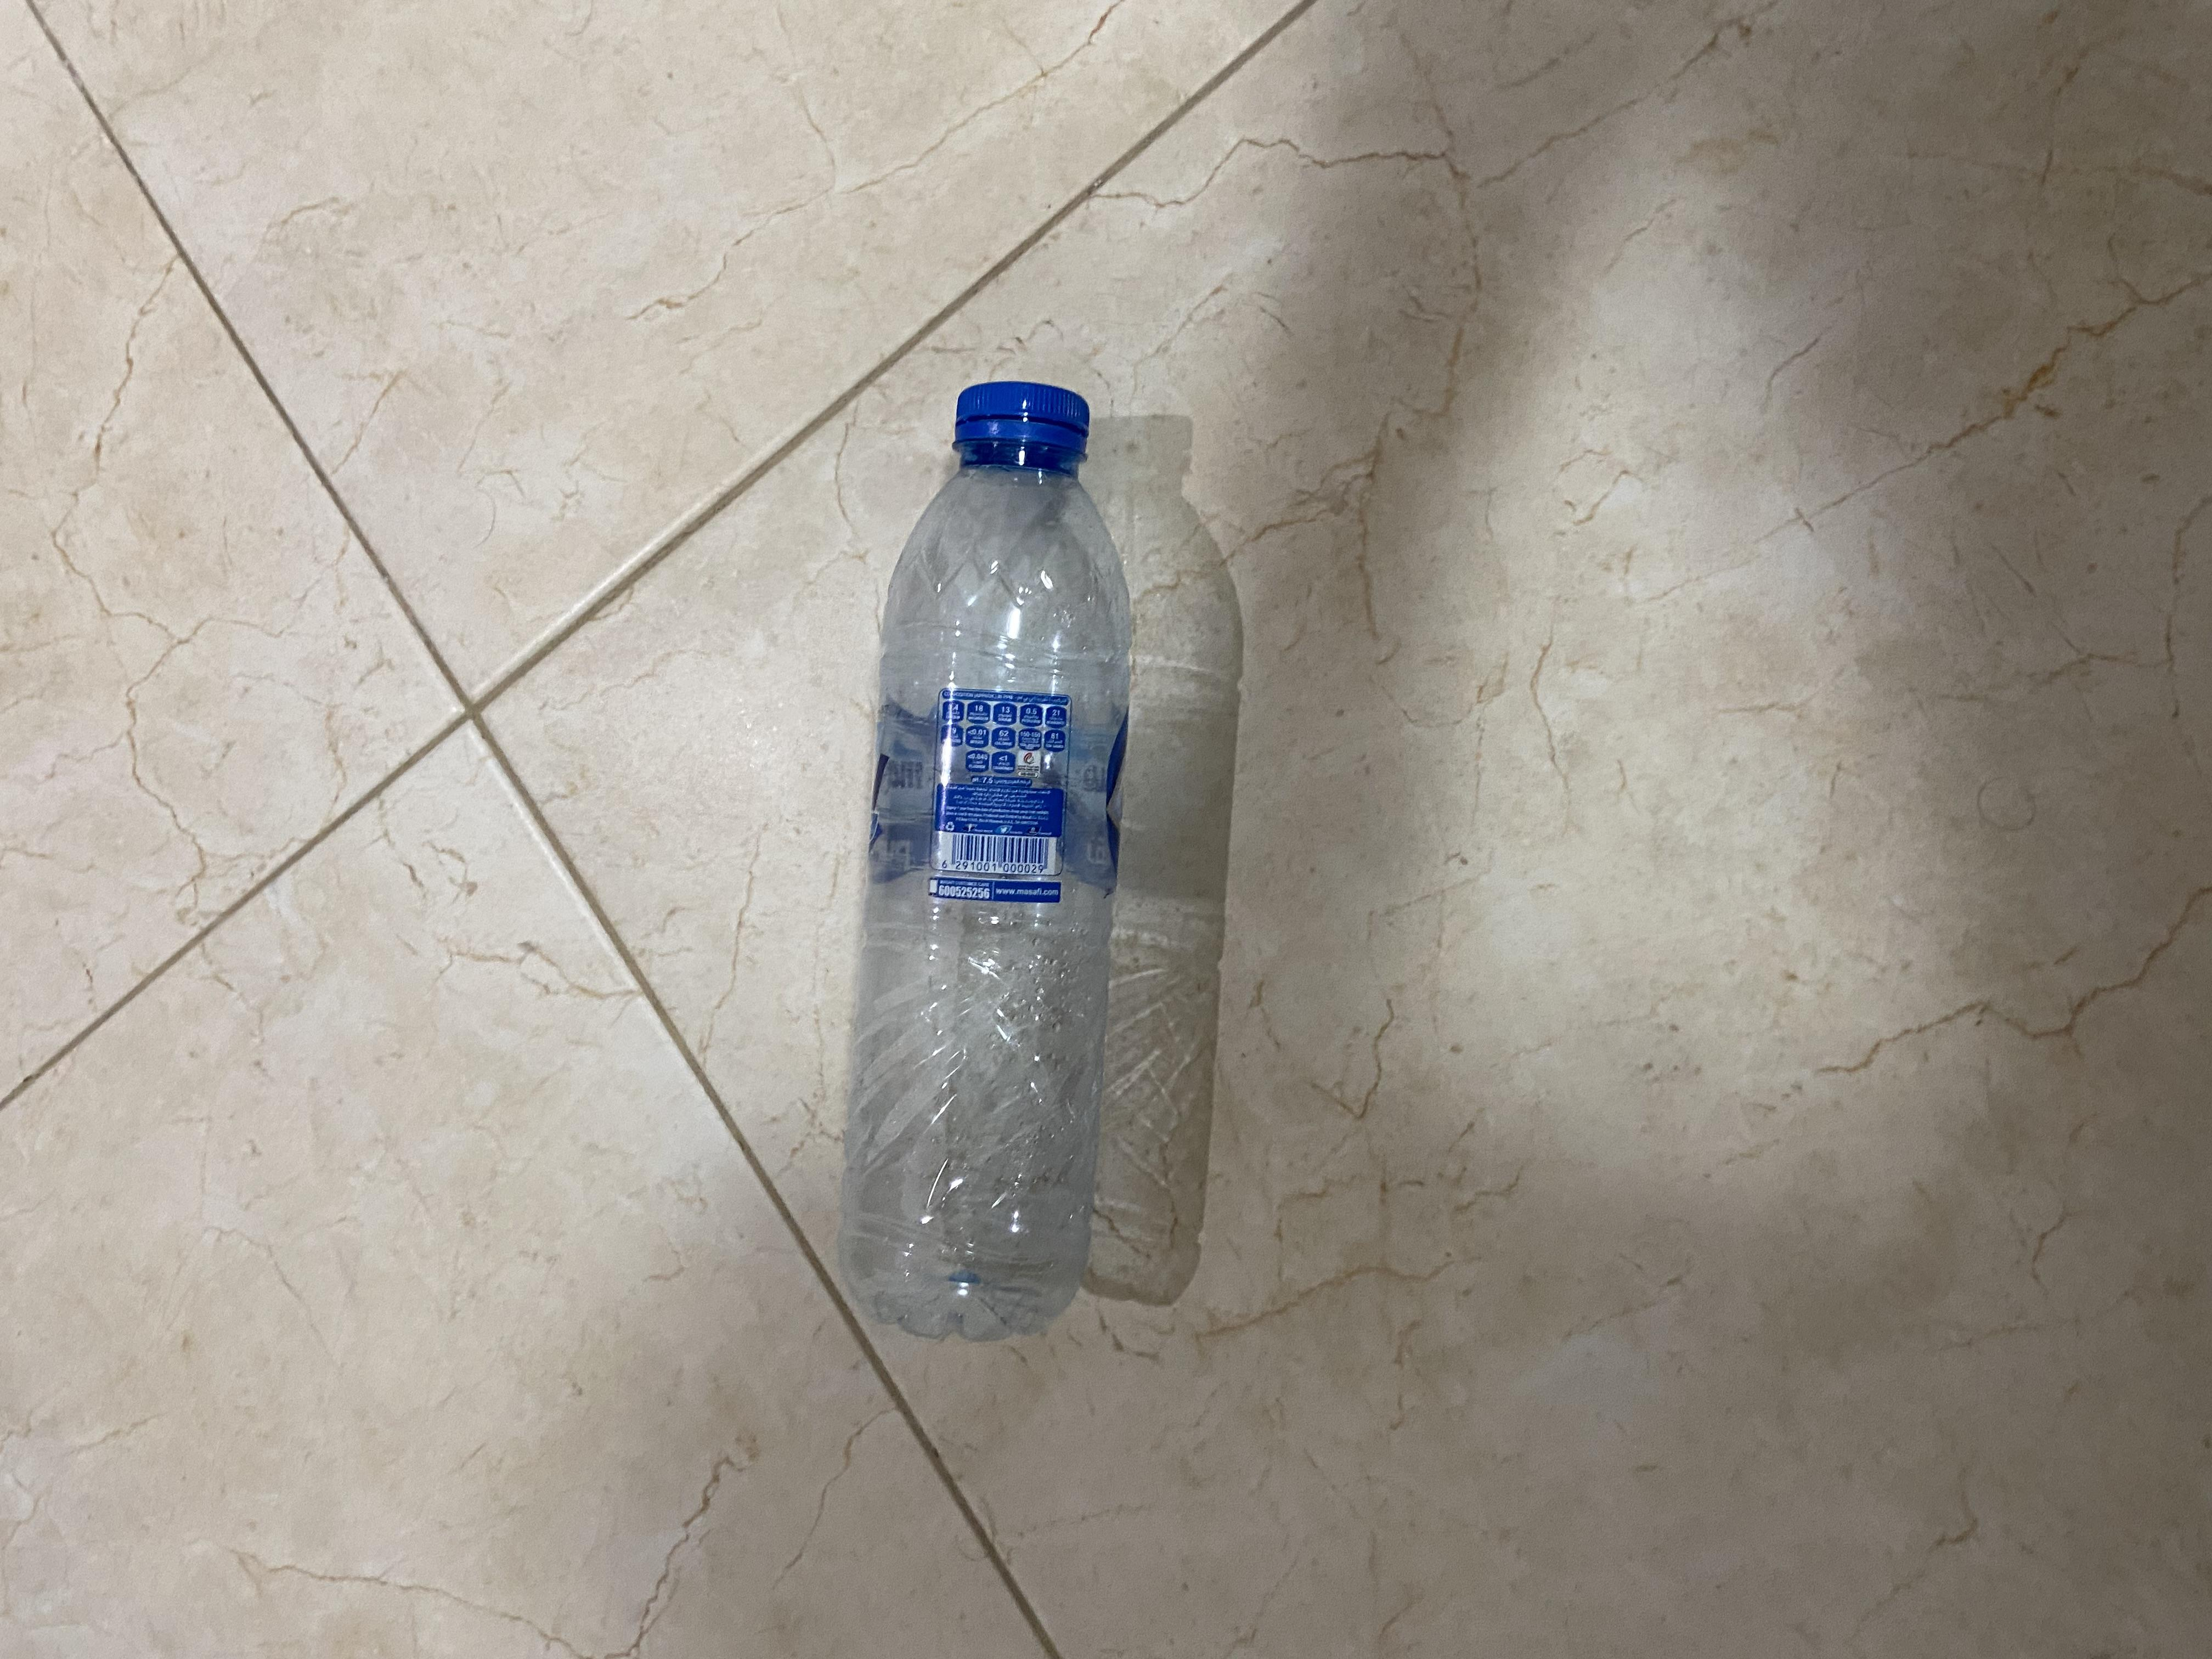bottle: (420, 721, 1710, 769)
